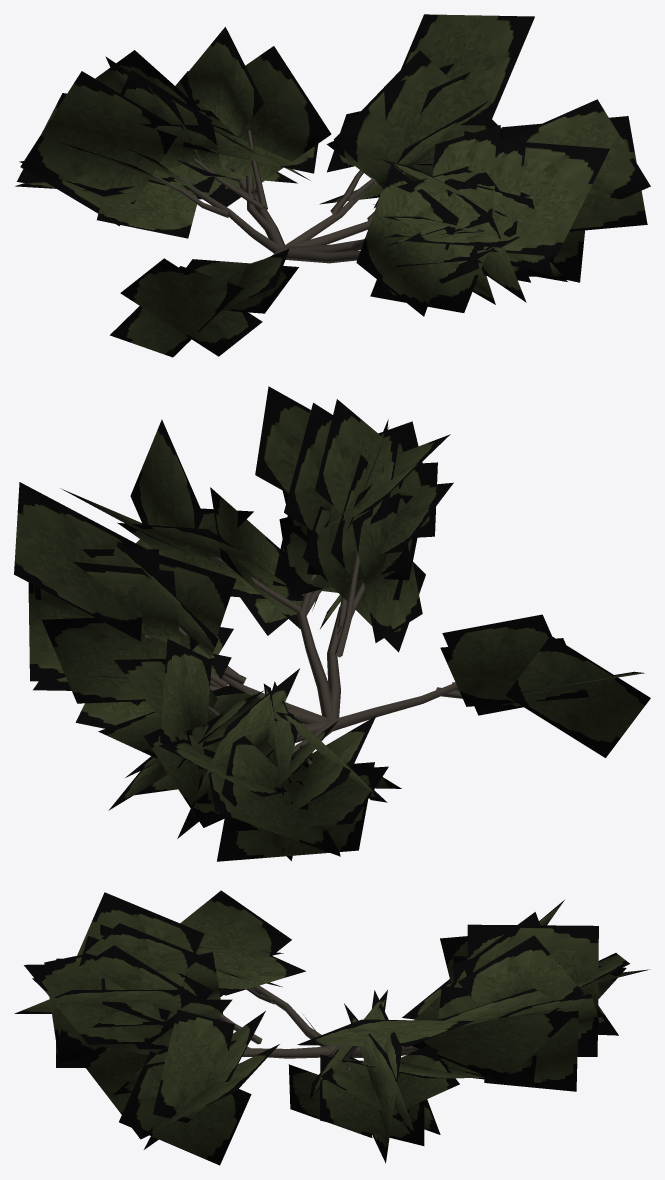
Rendered from juniper_1_burnt2.glb.
3 renders of one model, top to bottom at view 1: azimuth 30°, elevation 25°; view 2: azimuth 150°, elevation 25°; view 3: azimuth 270°, elevation 25°, orthographic. The views are drawn at different scales.
Visible parts, largest first — view 1: juniper_1_burnt2; view 2: juniper_1_burnt2; view 3: juniper_1_burnt2.
Boxes of the visible parts, x1,y1,x2,y2 form: juniper_1_burnt2: (15,14,650,357); juniper_1_burnt2: (14,386,650,861); juniper_1_burnt2: (14,890,650,1165).
Bounding box in the file's own units: 3.15 × 1.11 × 3.47.
2 materials, 1 textured.
